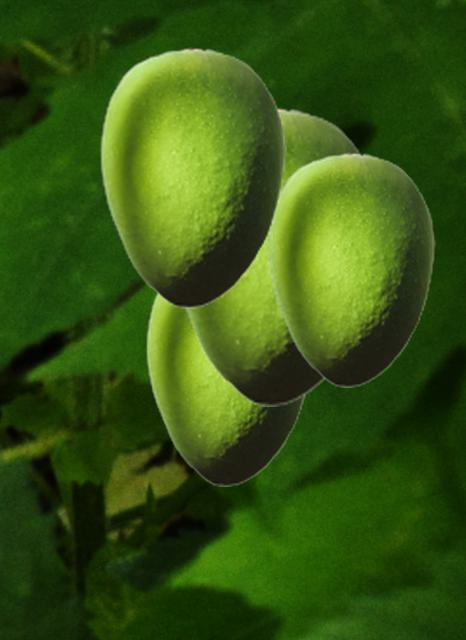green_mango: (180, 107, 365, 405), (99, 47, 285, 307), (267, 152, 434, 386), (145, 291, 309, 485)
